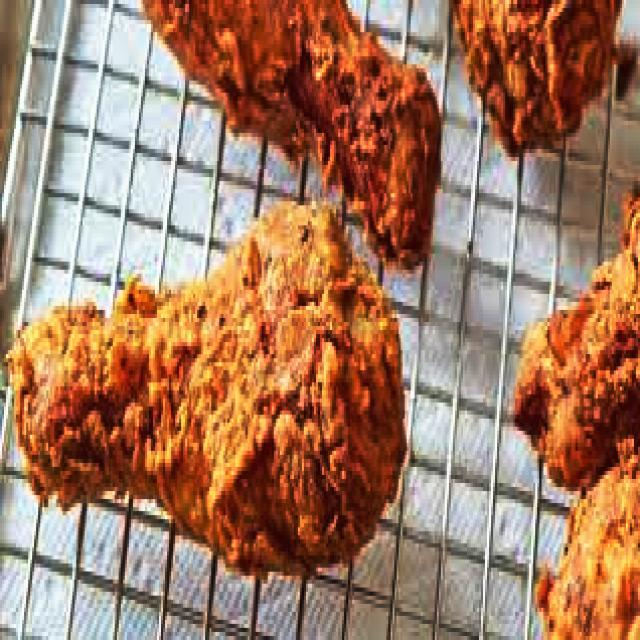fried_chicken: (10, 197, 415, 568), (147, 0, 443, 270), (507, 185, 640, 640), (451, 0, 620, 153)
